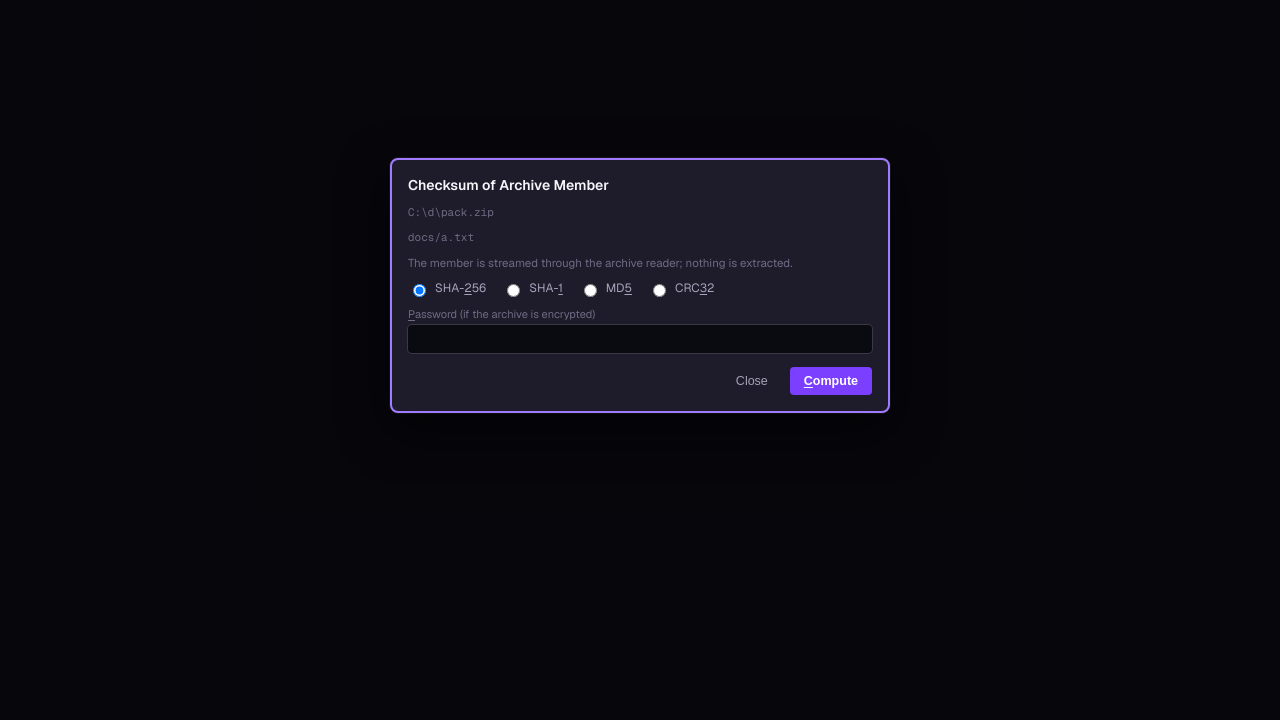
Test: FileToolsDialog: archive member checksum (FER-133) › computes the checksum from the dialog and shows the hash
The image size is (1280, 720).
Expected: the dialog "Checksum of Archive Member" is shown, [390,158,890,412]
Click the button "Compute".
click(831, 380)  # box [790,366,872,394]
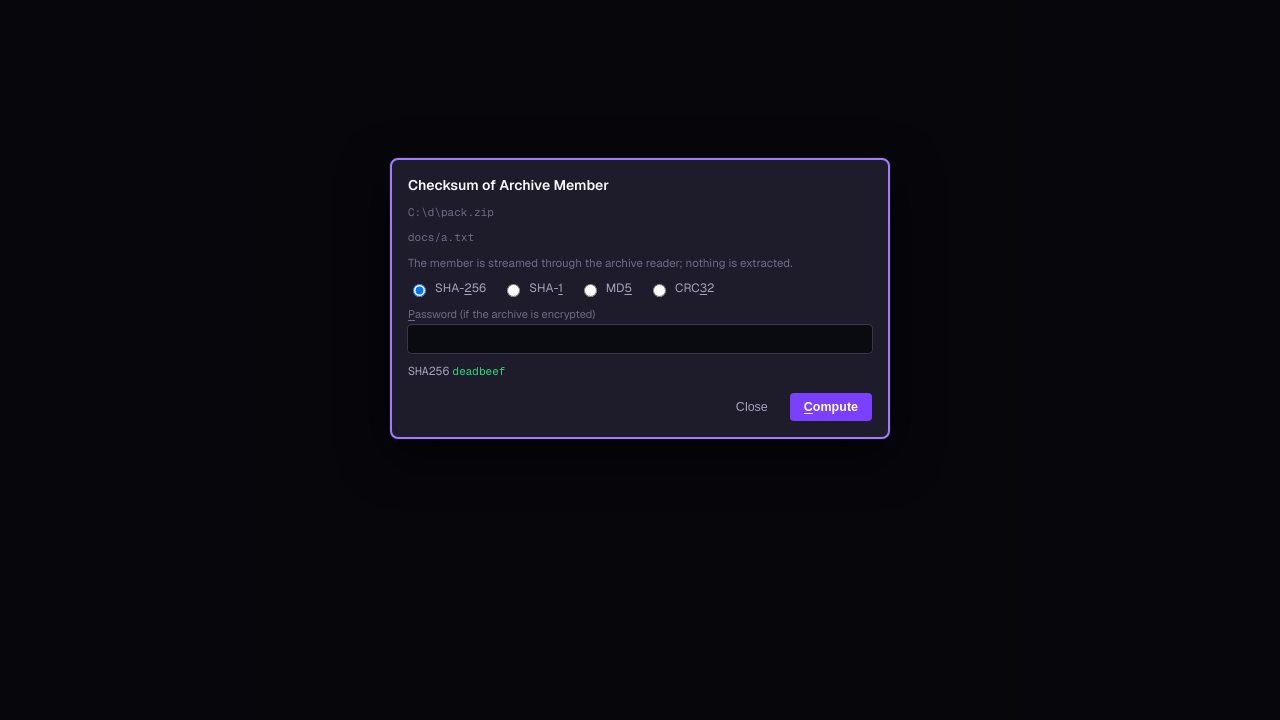
Expected: the text with test id "member-hash" reads "deadbeef", [452,364,505,378]
